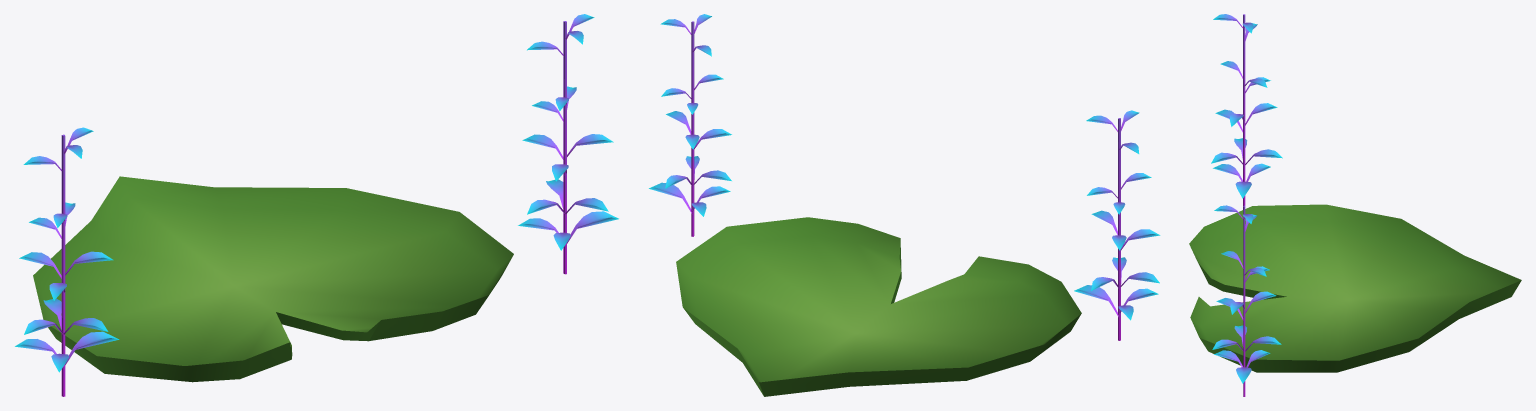
Rendered from underwater_item.fbx.
The picture shows the model from 3 angles, left to right: view 1: azimuth 30°, elevation 25°; view 2: azimuth 150°, elevation 25°; view 3: azimuth 270°, elevation 25°; orthographic projection. The views are drawn at different scales.
Visible parts, largest first — view 1: WD_PD_HeartLillypad_base, CB_Seaweed_001_base.001, CB_Seaweed_001_base; view 2: WD_PD_HeartLillypad_base, CB_Seaweed_001_base.001, CB_Seaweed_001_base; view 3: WD_PD_HeartLillypad_base, CB_Seaweed_001_base.001, CB_Seaweed_001_base.
Part boxes in pixels (x1,y1,x2,y2): WD_PD_HeartLillypad_base: (33, 176, 513, 382); CB_Seaweed_001_base.001: (15, 127, 119, 396); CB_Seaweed_001_base: (518, 14, 618, 274); WD_PD_HeartLillypad_base: (676, 217, 1081, 396); CB_Seaweed_001_base.001: (1074, 110, 1160, 340); CB_Seaweed_001_base: (649, 14, 731, 236); WD_PD_HeartLillypad_base: (1189, 204, 1521, 372); CB_Seaweed_001_base.001: (1211, 14, 1282, 209); CB_Seaweed_001_base: (1212, 205, 1281, 396).
Bounding box in the file's own units: 822 × 363 × 524.
